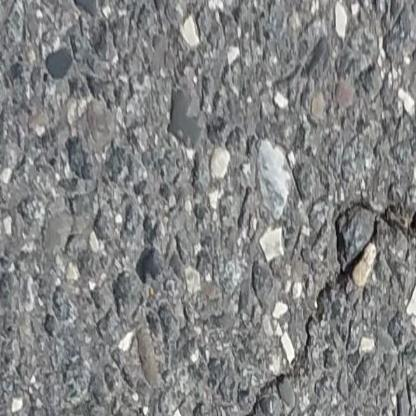Cracks: (333, 198, 416, 284), (229, 370, 290, 416), (300, 312, 318, 360)
